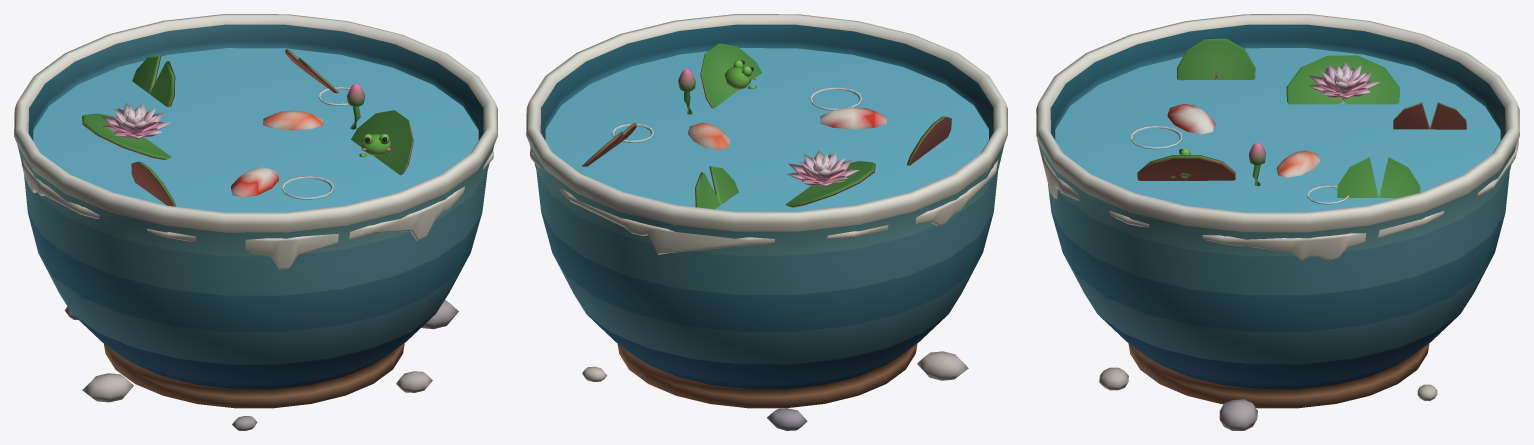
File: furn-lilyTub.glb
The picture shows the model from 3 angles, left to right: view 1: azimuth 30°, elevation 25°; view 2: azimuth 150°, elevation 25°; view 3: azimuth 270°, elevation 25°; orthographic projection.
Visible parts, largest first — view 1: furn; view 2: furn; view 3: furn.
Boxes of the visible parts, x1,y1,x2,y2 form: furn: (14, 14, 497, 430); furn: (526, 14, 1007, 430); furn: (1036, 14, 1519, 430).
Size of the model in its own units: 0.9546 by 0.553 by 0.9542.
